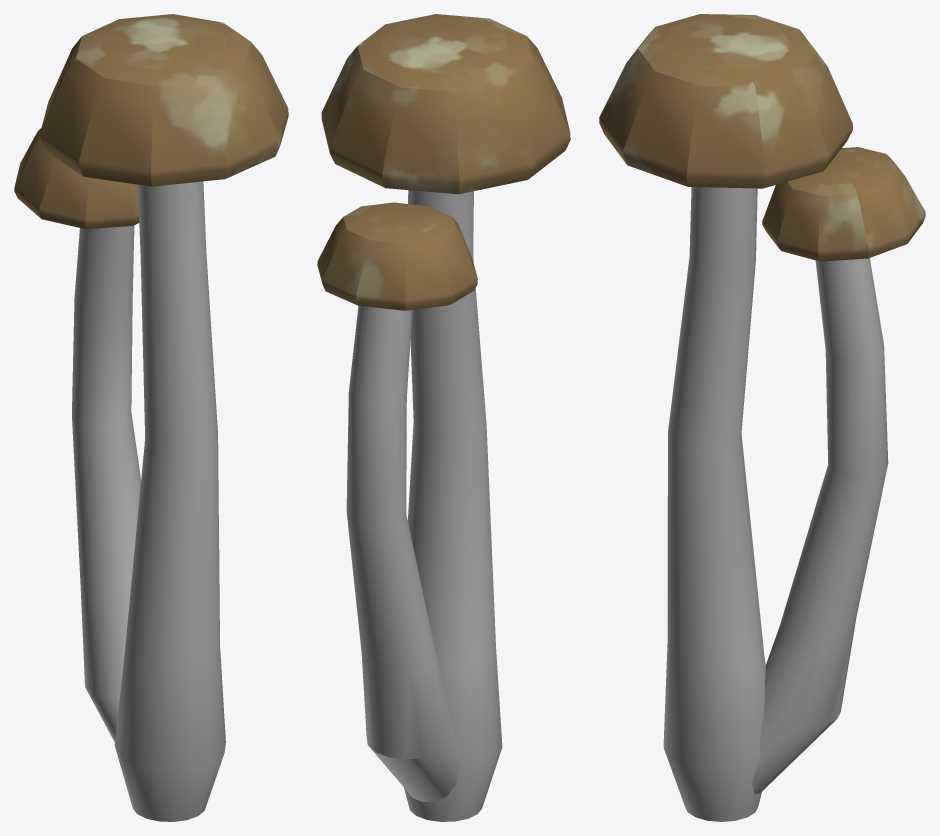
The model's file is Sm_Fungus4L.fbx.
3 views of the same model, side by side, from view 1: azimuth 30°, elevation 25°; view 2: azimuth 150°, elevation 25°; view 3: azimuth 270°, elevation 25° (orthographic).
Parts seen in each view (by area): view 1: Sm_Fungus4L; view 2: Sm_Fungus4L; view 3: Sm_Fungus4L.
Boxes of the visible parts, <box> form: Sm_Fungus4L: <box>14,14,288,821</box>; Sm_Fungus4L: <box>317,14,570,821</box>; Sm_Fungus4L: <box>599,14,925,821</box>.
Size of the model in its own units: 8.18 by 28.51 by 11.07.
